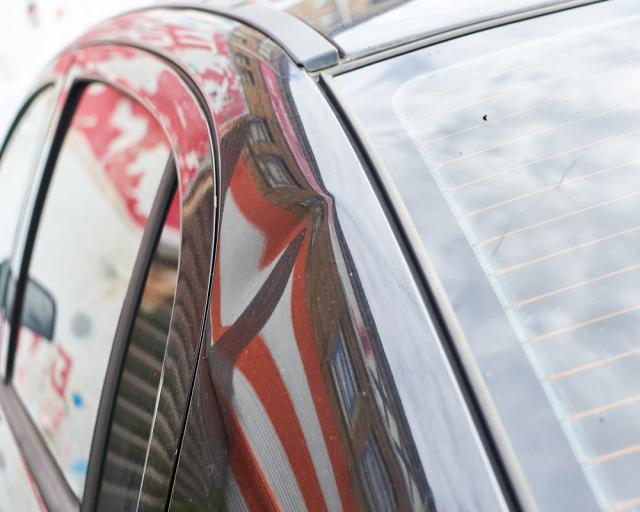dent: (211, 195, 333, 395)
